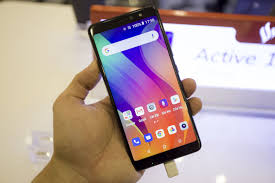vsmart: (87, 3, 203, 173)
